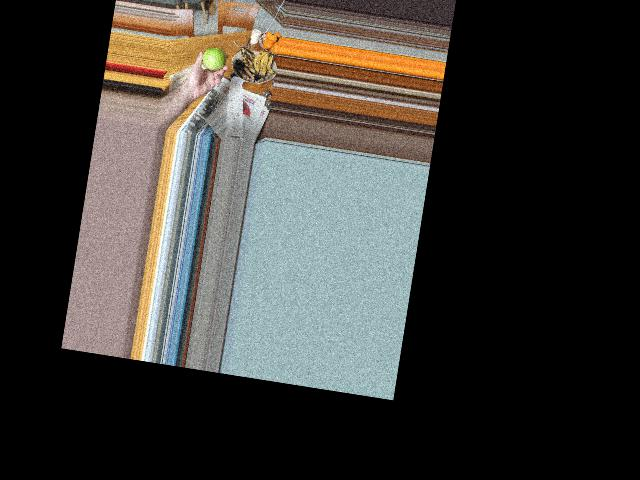apple: (200, 44, 229, 75)
